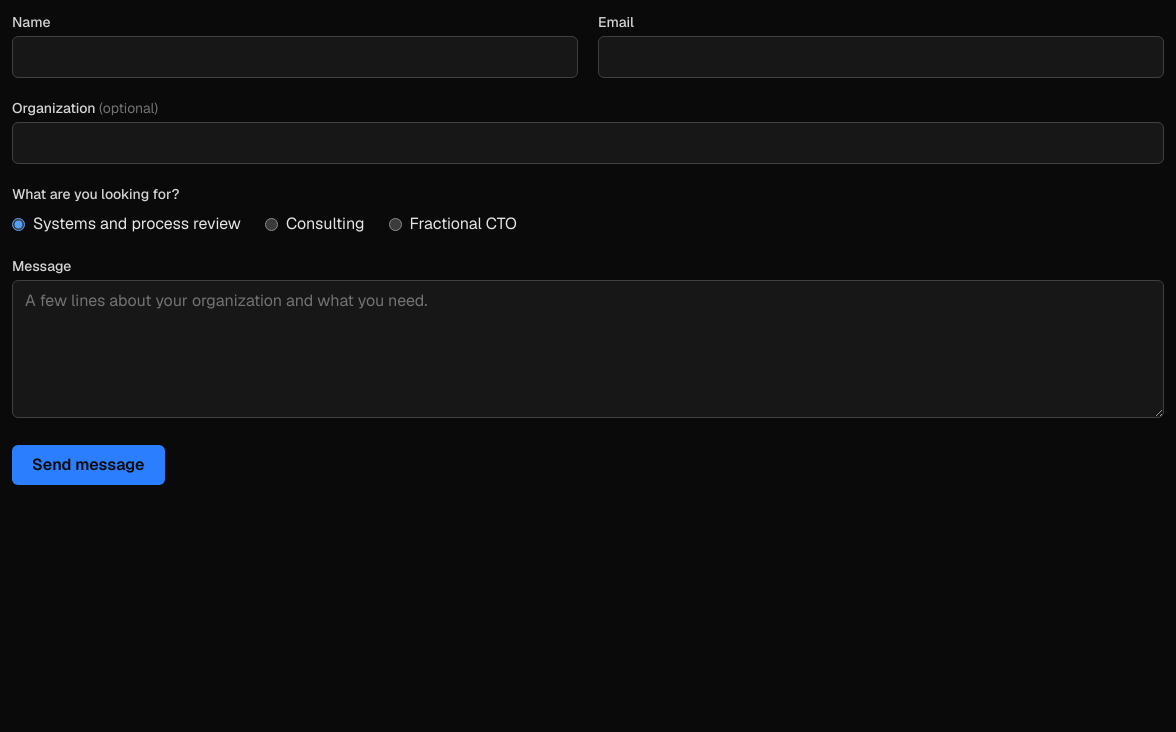
ContactForm › shows a form-level error when sending fails
In the field labelled "Name": point(295, 57) 12,36 -> 578,78, type "Ada"
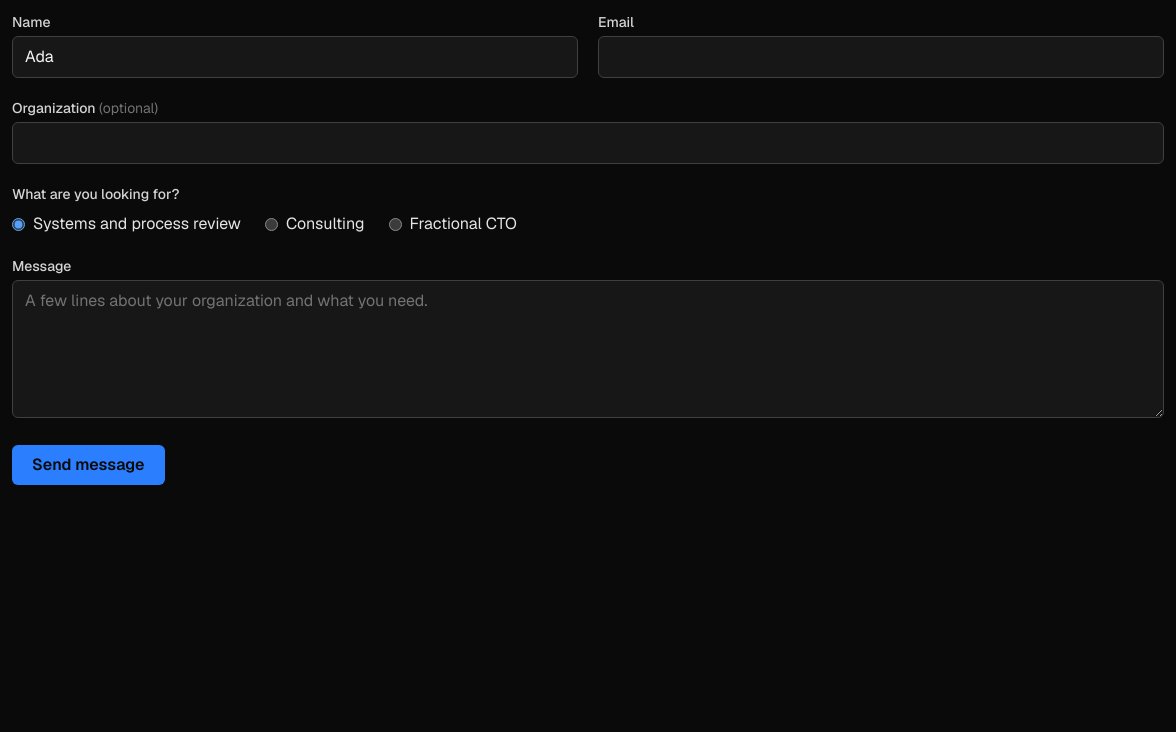
In the field labelled "Email": point(881, 57) 598,36 -> 1164,78, type "ada@example.com"
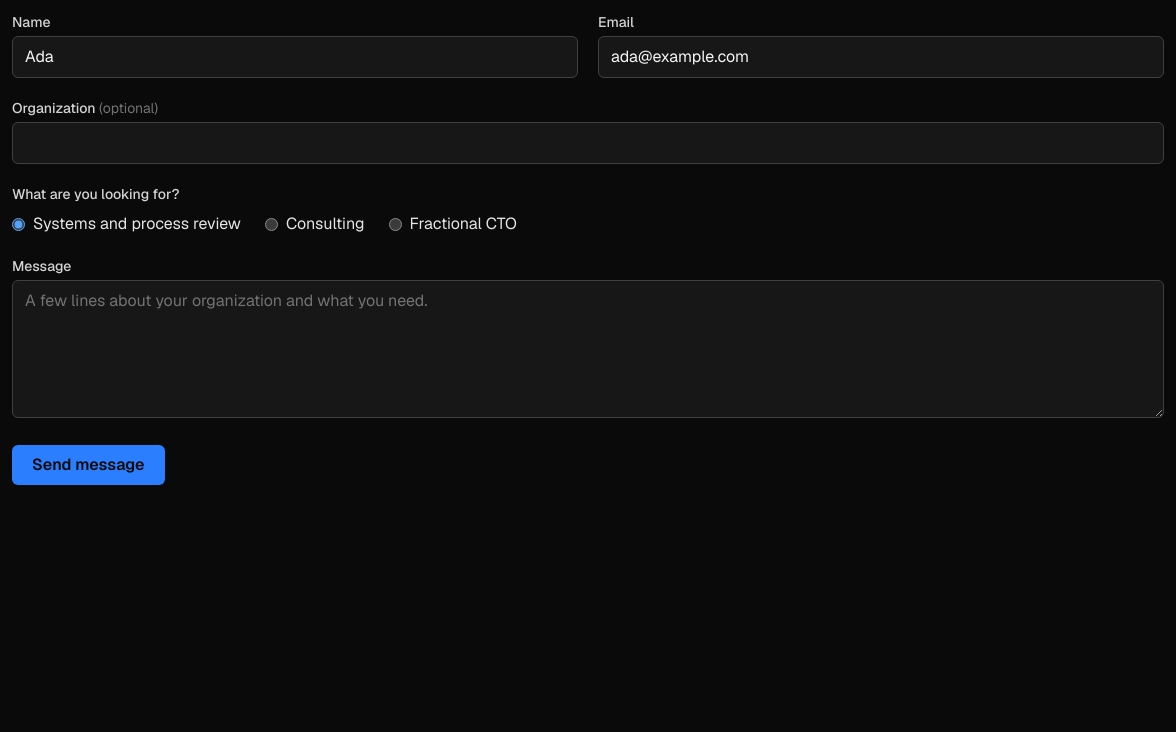
In the text box labelled "Message": point(588, 349) 12,280 -> 1164,418, type "We need help with our billing rebuild."
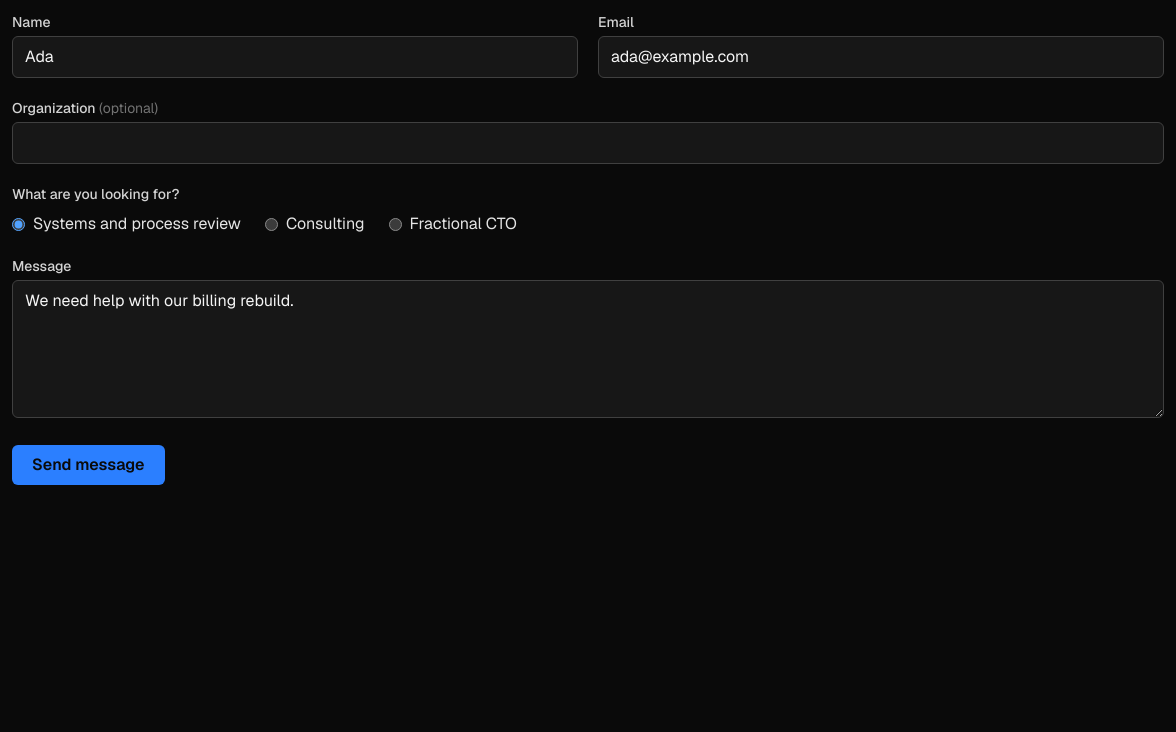
Click the button "Send message": point(88, 465) 12,445 -> 164,485
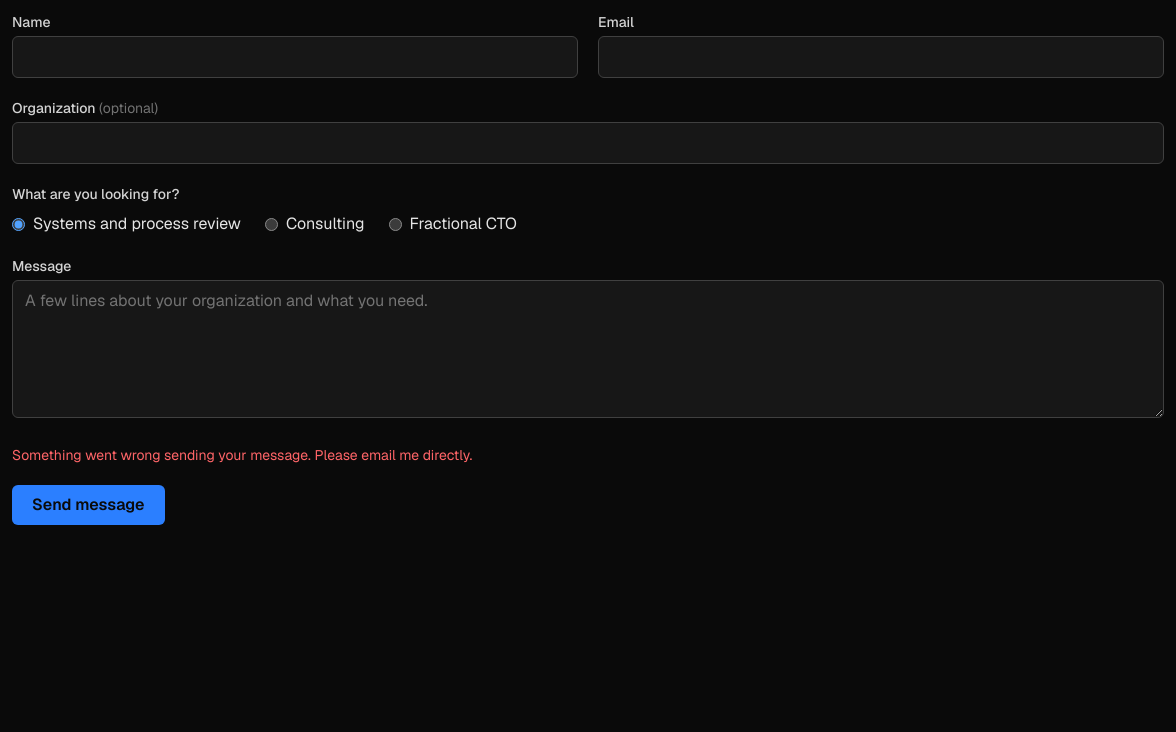
expect the message shows "went wrong": met, box 12,446 -> 472,464
